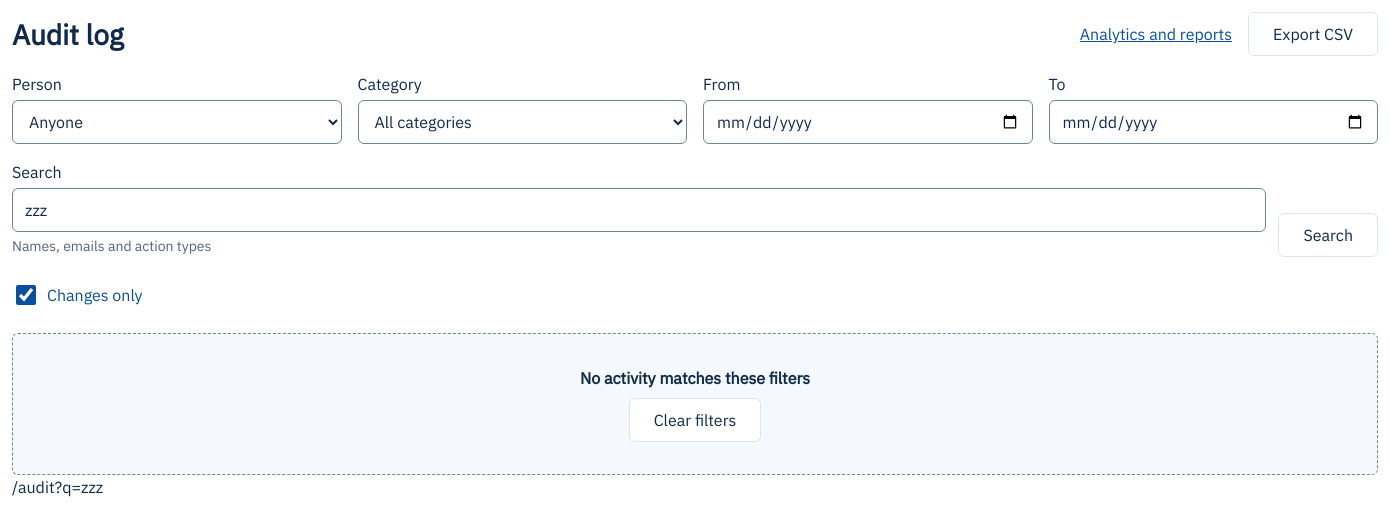
AuditPage › list › shows an empty state with Clear filters when nothing matches
This screenshot has width=1390, height=514.
expect the text "No activity matches these filters" is shown: met, box [580,368,810,388]
expect the search field labelled "Search" holds "zzz": met, box [12,188,1266,232]
Click the button "Clear filters". click: (695, 420)
box: [629,398,761,442]
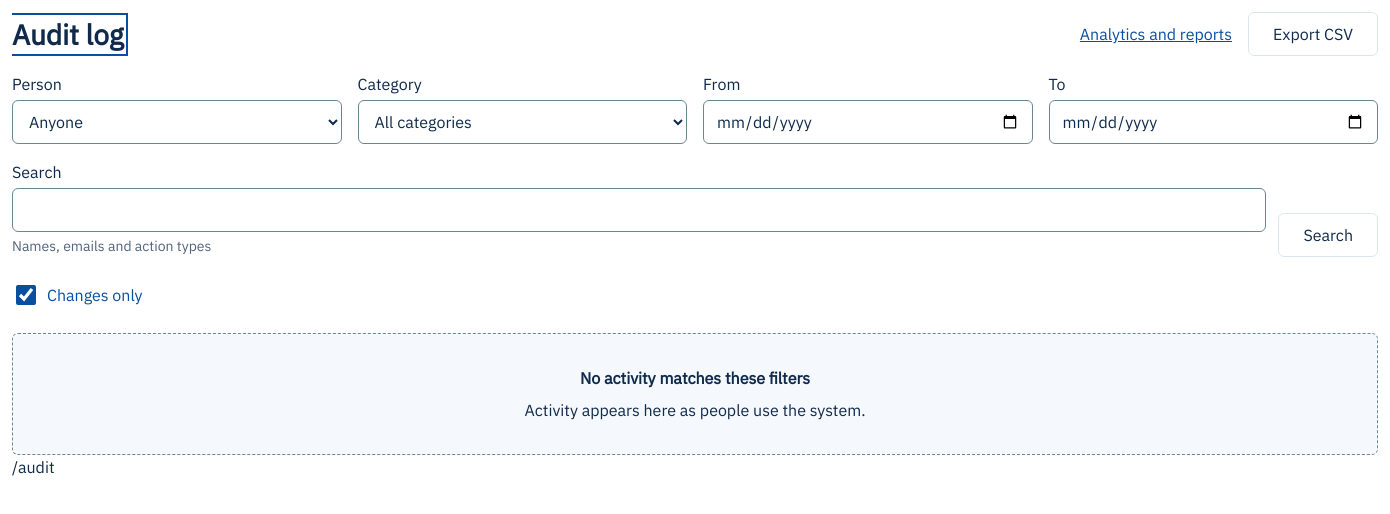
expect the text with test id "location" reads "/audit": met, box [12,457,54,477]
expect the search field labelled "Search" is empty: met, box [12,188,1266,232]
